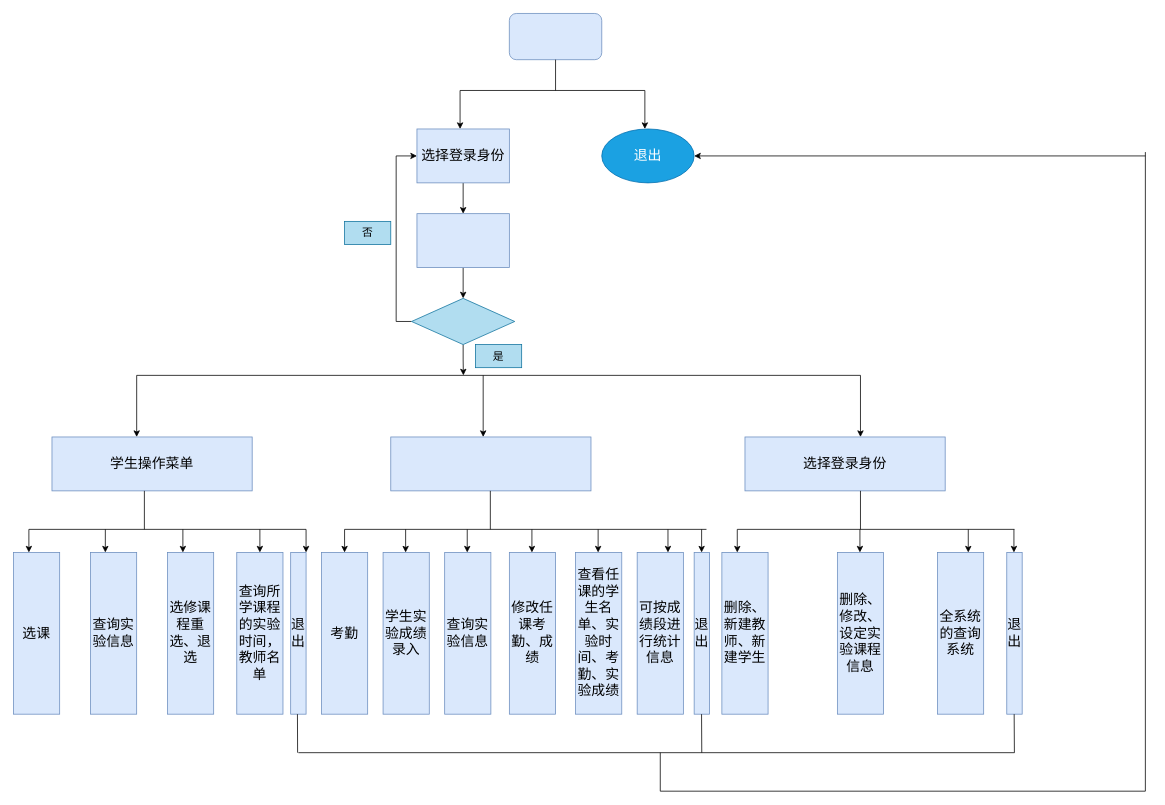
Some shapes in this 1165 by 805 pixel diagram are drawn without their labels. The box of each missing label's shape, as (x1, y1, x2, y2) in pixels:
匹配成功？: (411, 298, 515, 345)
开始: (509, 13, 602, 60)
教师操作菜单: (390, 436, 591, 491)
输入用户名和密码: (416, 213, 509, 268)
